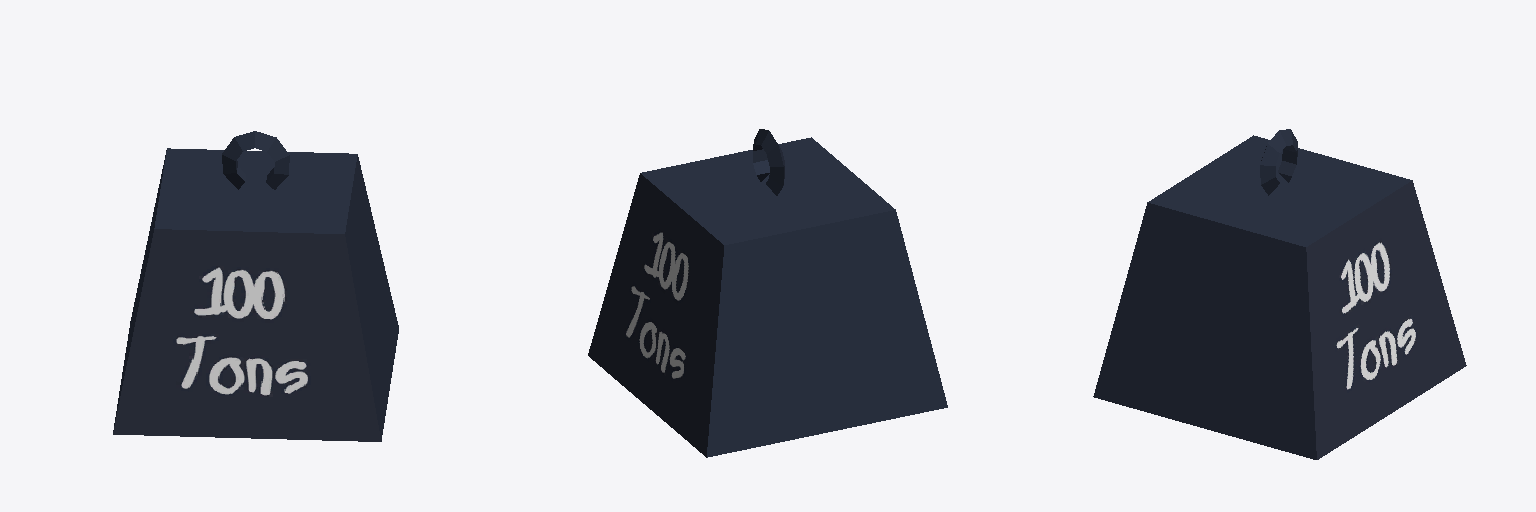
The picture shows the model from 3 angles: view 1: azimuth 30°, elevation 25°; view 2: azimuth 150°, elevation 25°; view 3: azimuth 270°, elevation 25°; orthographic projection.
Visible parts, largest first — view 1: mesh0010; view 2: mesh0010; view 3: mesh0010.
Boxes of the visible parts, x1,y1,x2,y2 form: mesh0010: [113, 131, 398, 441]; mesh0010: [588, 129, 947, 457]; mesh0010: [1093, 129, 1466, 459].
Size of the model in its own units: 28.57 by 21.2 by 28.57.
2 materials, 2 textured.